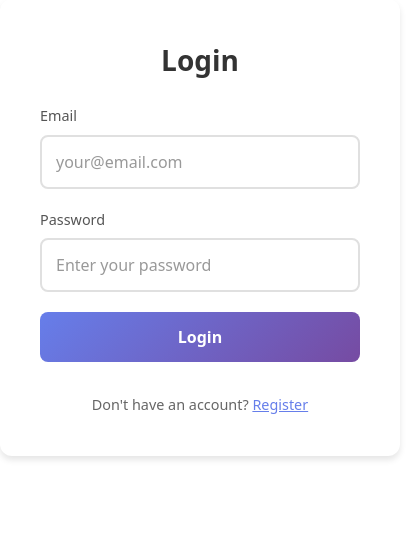
it: LoginForm › shows error when login fails
Step 1. Type "bad@test.com" into the field labelled "Email" → (200, 162), box [40,135,360,189]
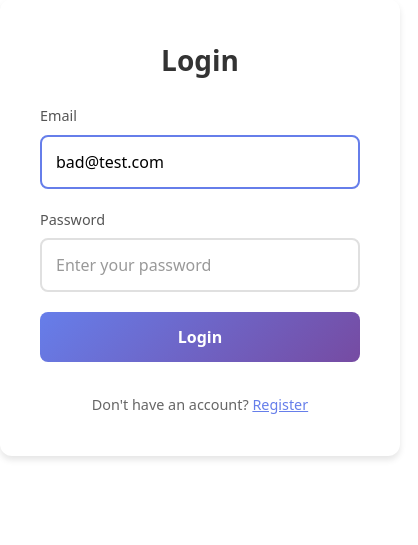
Step 2. Type "wrong" into the password field labelled "Password" → (200, 265), box [40,238,360,292]
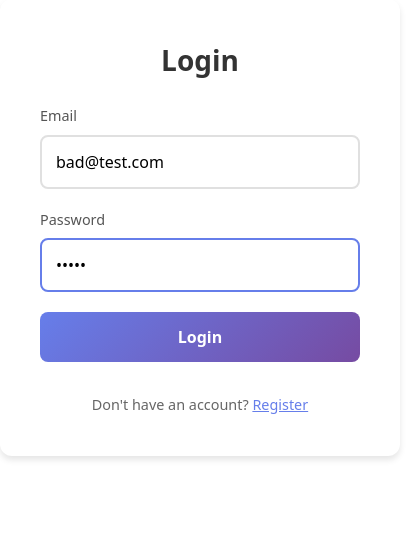
Step 3. Click the button "Login" → (200, 337), box [40,312,360,362]
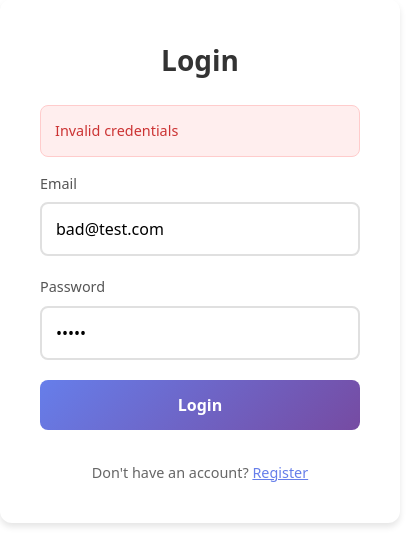
Check: the text "Invalid credentials" is shown, box [40,105,360,157]
